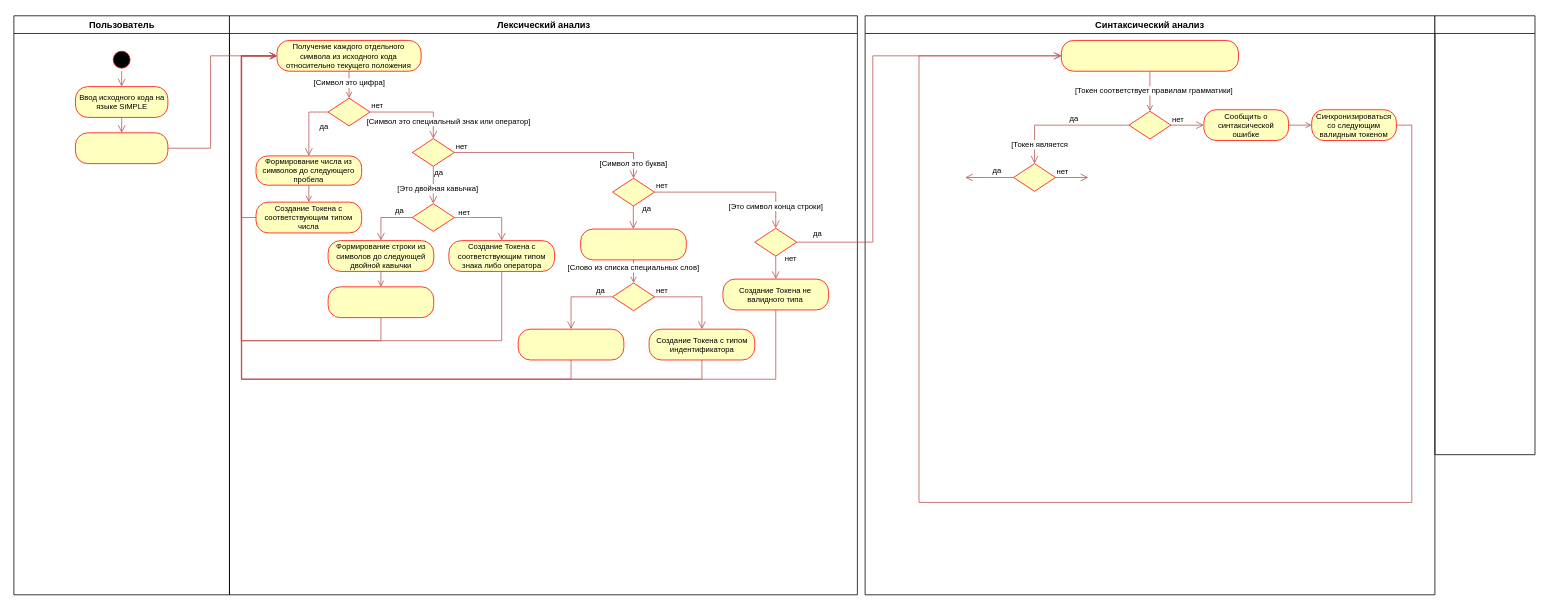
Some shapes in this 1548 by 608 pixel diagram are drawn without their labels. The shapes that lost their labels are listed below. From the top down, each one's centre as x and y in pixels, then its label:
(1149,55): Прочитать следующий токен
(121,148): Нажать кнопку "Запустить анализ"
(633,244): Формирование слова из символов до следующего пробела
(1484,235): Семантический анализ
(380,302): Создание Токена с типом строки
(570,344): Создание Токена с соответствующим типом специального слова
